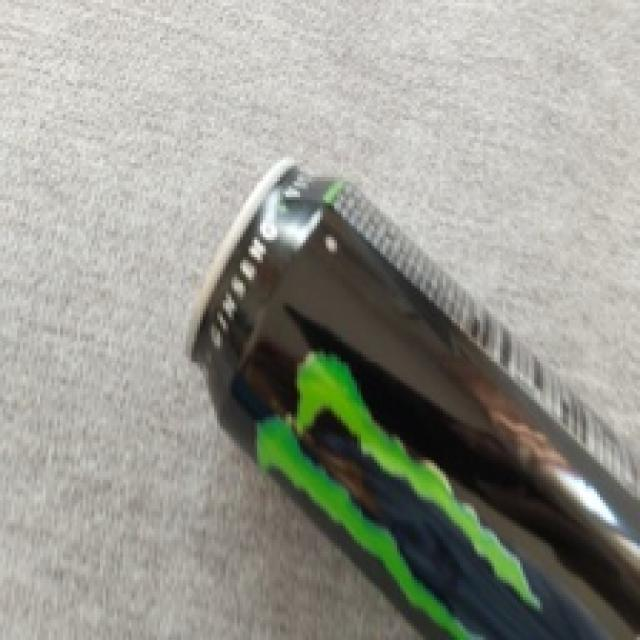Kaleng: (189, 159, 638, 638)
